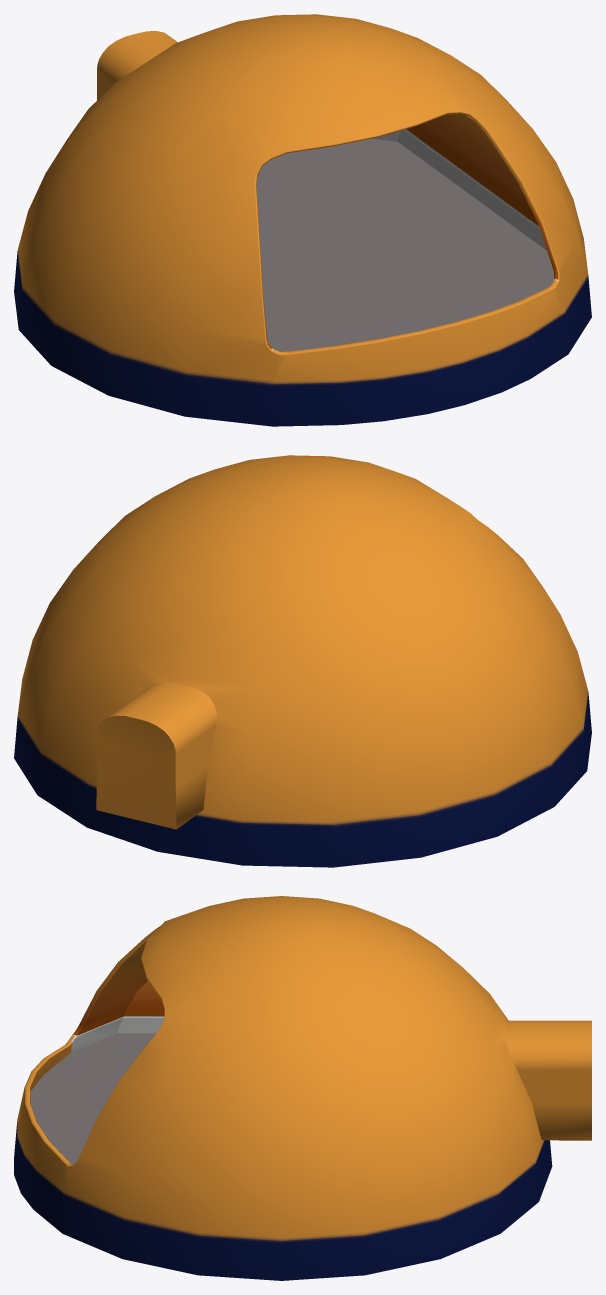
File: Ship_Top.fbx
3 renders of one model, top to bottom at view 1: azimuth 30°, elevation 25°; view 2: azimuth 150°, elevation 25°; view 3: azimuth 270°, elevation 25°, orthographic. The views are drawn at different scales.
Parts seen in each view (by area): view 1: pSphere4; view 2: pSphere4; view 3: pSphere4.
Part boxes in pixels (x1,y1,x2,y2): pSphere4: [14, 14, 591, 426]; pSphere4: [14, 455, 591, 867]; pSphere4: [14, 896, 591, 1280].
Size of the model in its own units: 1880 by 940 by 2007.
